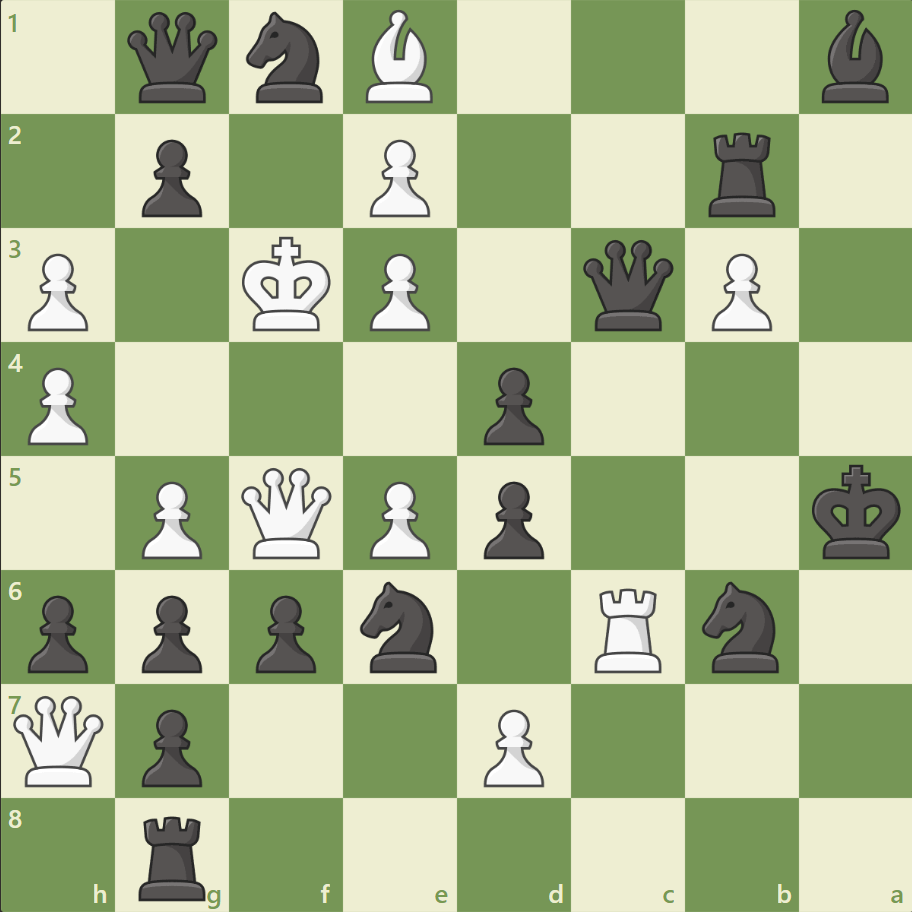B: (358, 6, 442, 109)
K: (238, 231, 338, 339)
P: (474, 700, 549, 791), (133, 473, 208, 564), (20, 359, 95, 450), (701, 246, 776, 337), (20, 246, 95, 337), (361, 473, 435, 564), (361, 246, 435, 337), (361, 132, 435, 223)
Q: (10, 690, 109, 789), (237, 463, 336, 562)
R: (587, 579, 670, 676)
b: (812, 6, 896, 109)
k: (806, 458, 906, 566)
n: (351, 575, 449, 677), (238, 7, 335, 110), (692, 575, 789, 677)
p: (133, 700, 208, 791), (247, 586, 322, 677), (133, 586, 208, 677), (20, 586, 95, 677), (474, 473, 549, 564), (474, 359, 549, 450), (133, 132, 208, 223)
q: (578, 236, 677, 335), (124, 9, 223, 108)
r: (700, 125, 783, 222), (133, 806, 215, 904)
